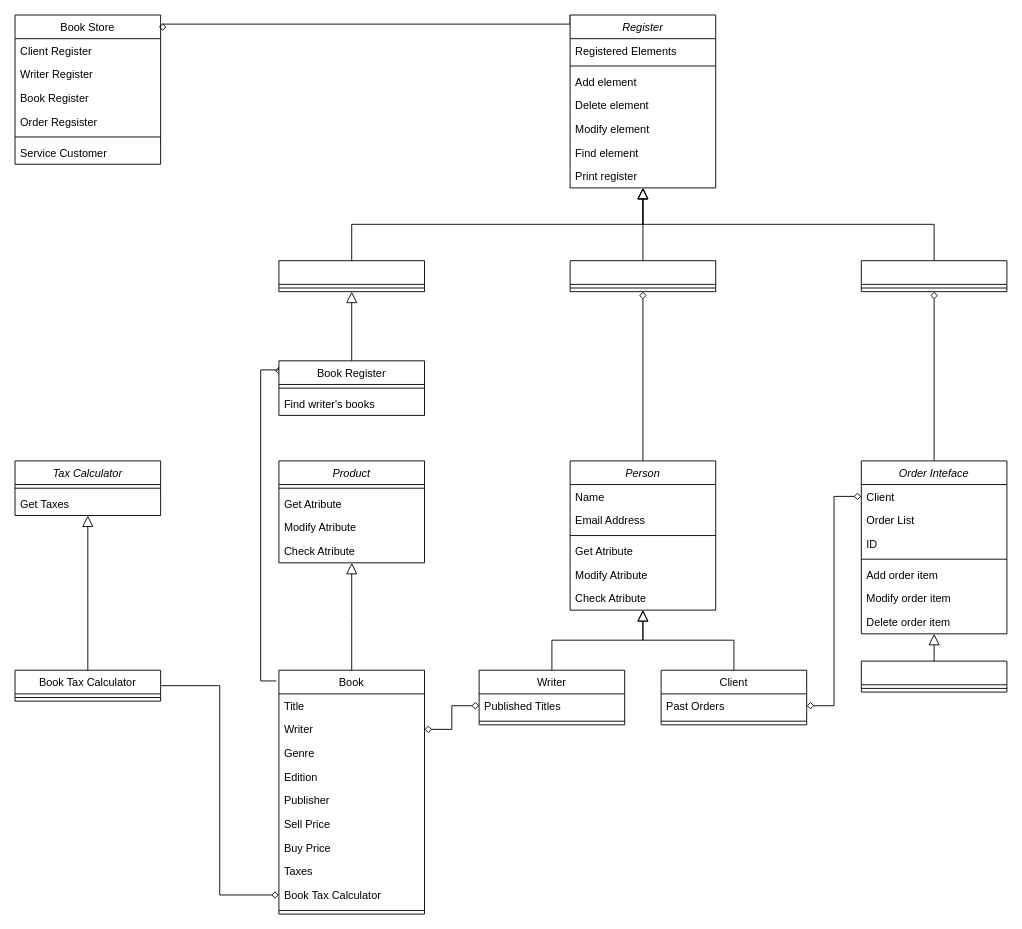
This 1022x929 diagram has some shape labels left out. Each missing label, with the centre of its shape:
Order Product: point 933,676
Order Register: point 933,276
Person Register: point 642,276
Product Register: point 351,276
